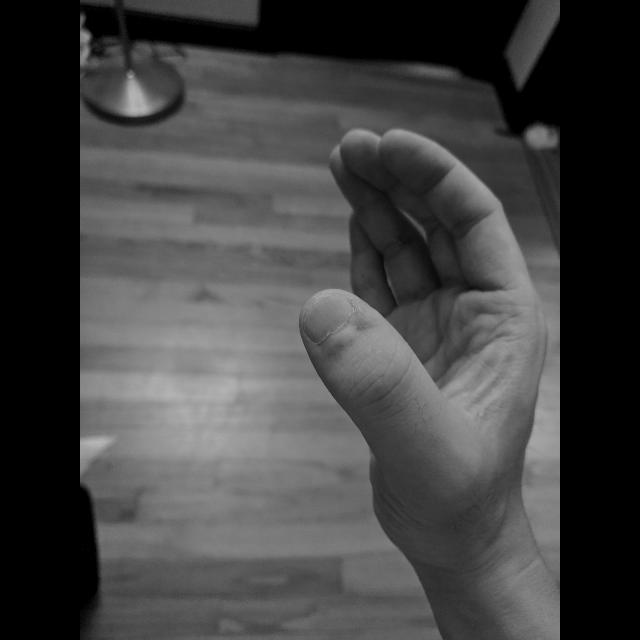C: (292, 124, 560, 558)
